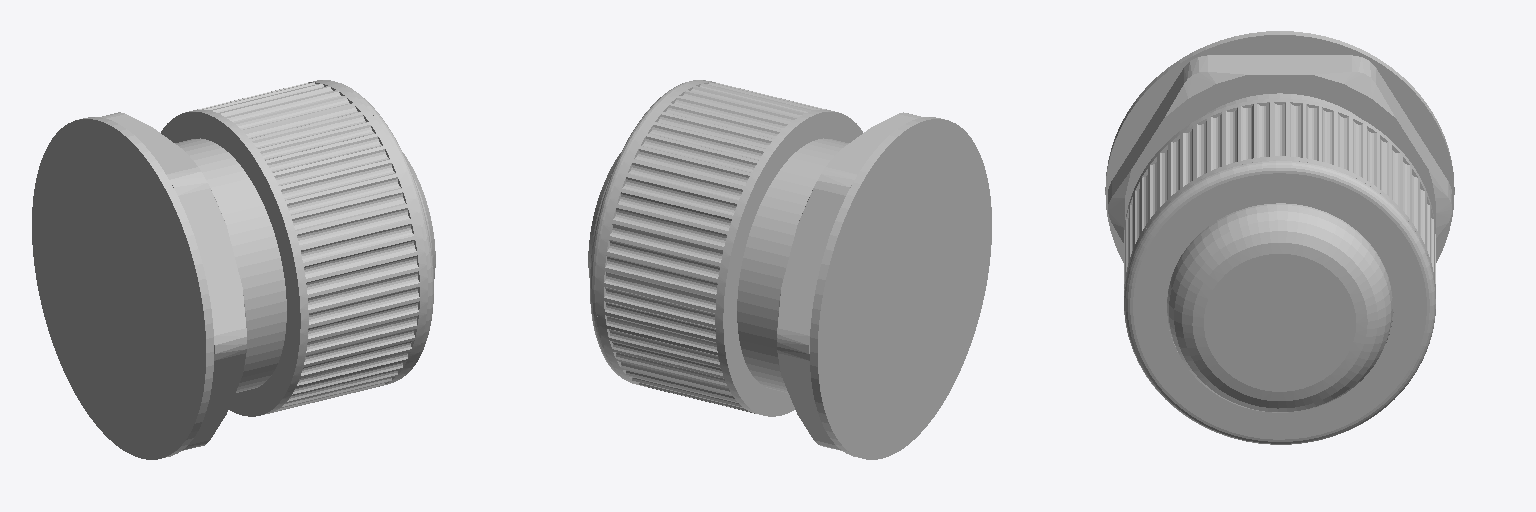
File: button_light_type_2.obj
3 views of the same model, side by side, from view 1: azimuth 30°, elevation 25°; view 2: azimuth 150°, elevation 25°; view 3: azimuth 270°, elevation 25° (orthographic).
Visible parts, largest first — view 1: box_button (Meshed), ring (Meshed), screew (Meshed), button_base (Meshed), box_button_top (Meshed); view 2: box_button (Meshed), ring (Meshed), screew (Meshed), button_base (Meshed), box_button_top (Meshed); view 3: transparent_button (Meshed), box_button_top (Meshed), box_button (Meshed), screew (Meshed), ring (Meshed), button_base (Meshed).
Boxes of the visible parts, x1,y1,x2,y2 form: box_button (Meshed): [161, 80, 427, 416]; ring (Meshed): [32, 117, 213, 459]; screew (Meshed): [101, 112, 246, 450]; button_base (Meshed): [175, 138, 286, 392]; box_button_top (Meshed): [317, 80, 433, 382]; box_button (Meshed): [596, 80, 862, 416]; ring (Meshed): [810, 117, 991, 459]; screew (Meshed): [777, 112, 922, 450]; button_base (Meshed): [737, 138, 848, 392]; box_button_top (Meshed): [590, 80, 711, 383]; transparent_button (Meshed): [1167, 203, 1392, 412]; box_button_top (Meshed): [1124, 160, 1435, 444]; box_button (Meshed): [1124, 98, 1435, 289]; screew (Meshed): [1108, 55, 1451, 242]; ring (Meshed): [1105, 31, 1454, 262]; button_base (Meshed): [1202, 93, 1357, 116].
Bounding box in the file's own units: 17.2 × 19 × 19.